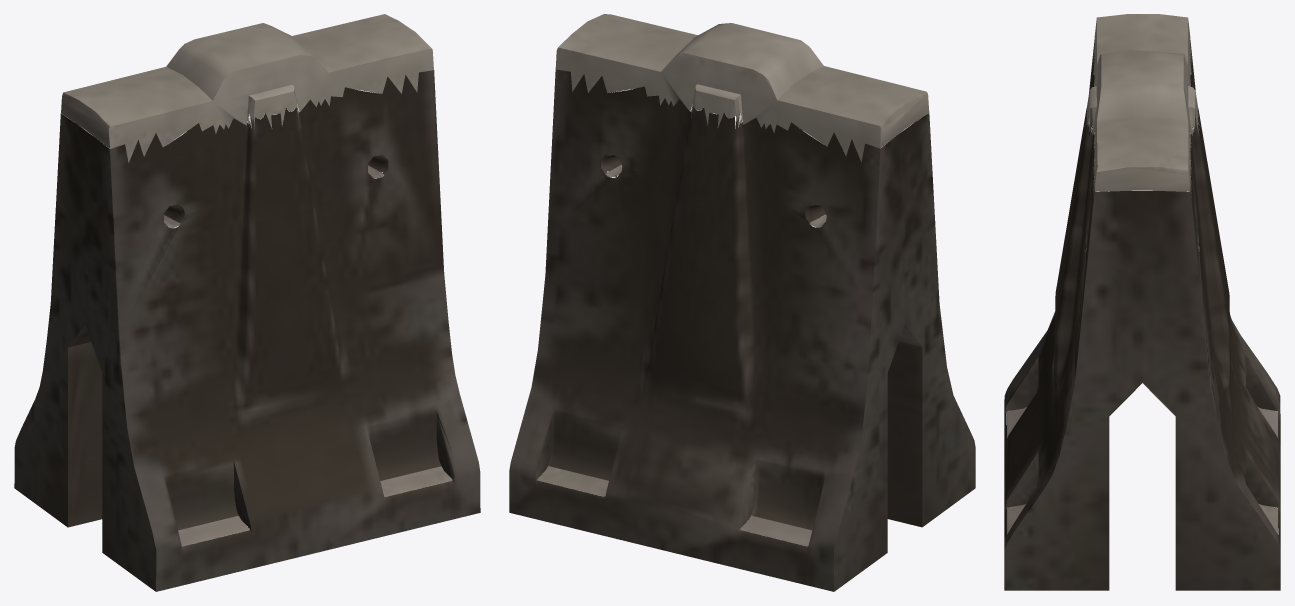
File: stone-wall-ew.glb
3 views of the same model, side by side, from view 1: azimuth 30°, elevation 25°; view 2: azimuth 150°, elevation 25°; view 3: azimuth 270°, elevation 25° (orthographic). The views are drawn at different scales.
Parts seen in each view (by area): view 1: body; view 2: body; view 3: body.
Boxes of the visible parts, x1,y1,x2,y2 form: body: (14,14,480,591); body: (509,14,975,591); body: (1004,14,1280,590).
Size of the model in its own units: 0.9921 by 1.32 by 0.7437.
Materials: 1 (1 with a texture image).
